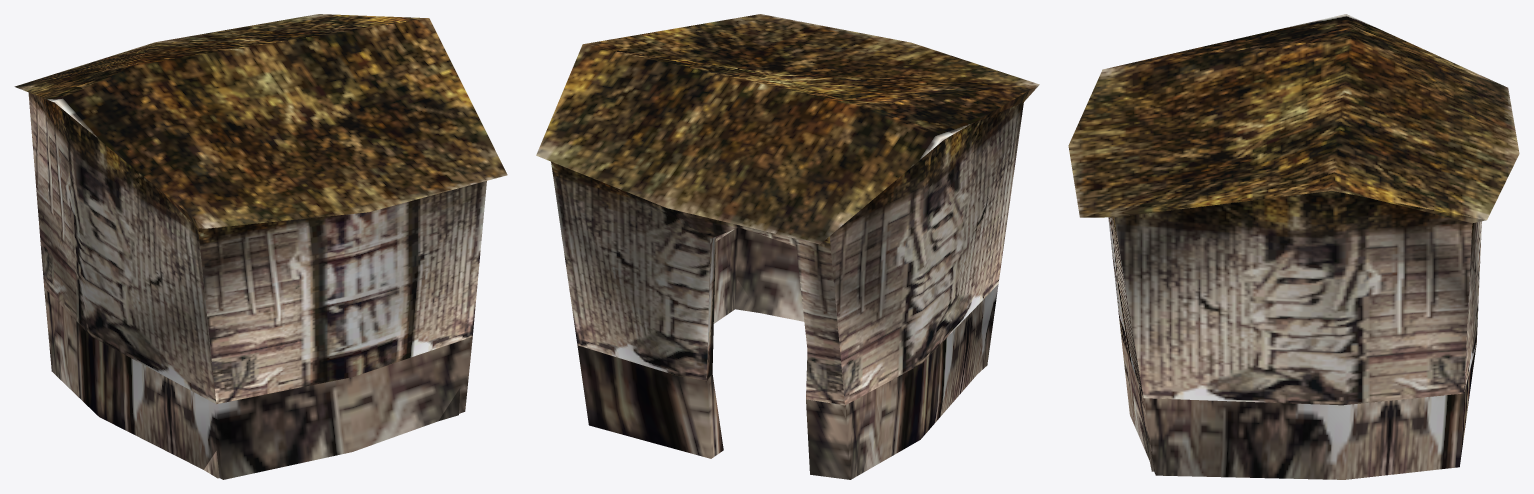
The model's file is MogSlm05.glb.
3 renders of one model, left to right at view 1: azimuth 30°, elevation 25°; view 2: azimuth 150°, elevation 25°; view 3: azimuth 270°, elevation 25°, orthographic.
Visible parts, largest first — view 1: _MogSlm05; view 2: _MogSlm05; view 3: _MogSlm05.
Boxes of the visible parts, left/top/right/bottom form: _MogSlm05: left=14, top=14, right=507, bottom=479; _MogSlm05: left=536, top=14, right=1039, bottom=479; _MogSlm05: left=1068, top=14, right=1519, bottom=479.
Size of the model in its own units: 4.85 by 4.16 by 5.22.
Materials: 1 (1 with a texture image).
